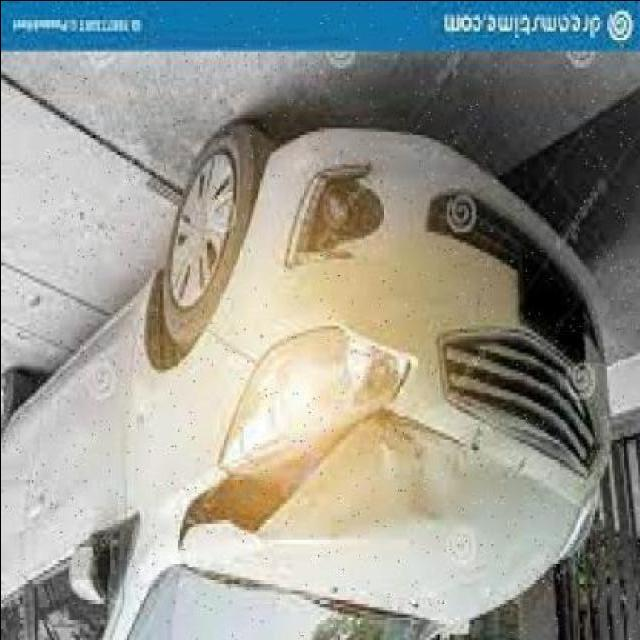bonnet-dent: (172, 412, 592, 610)
